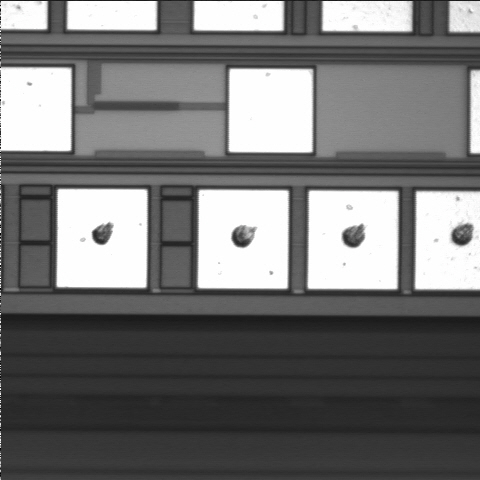pad: (57, 189, 147, 288), (198, 190, 288, 289), (308, 191, 398, 289), (229, 69, 313, 152)
